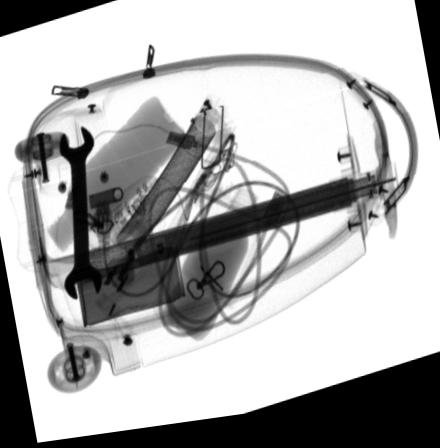Wrench: (57, 127, 101, 302)
